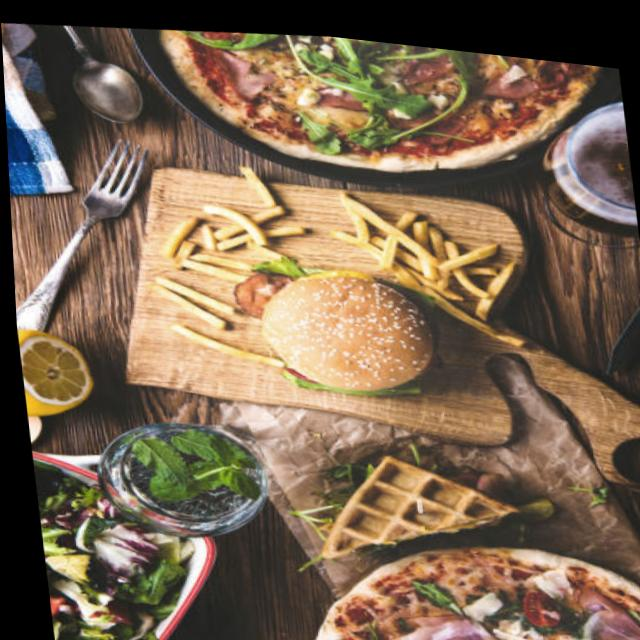burger: (224, 239, 445, 402)
pizza: (151, 13, 625, 199), (290, 504, 640, 640)
